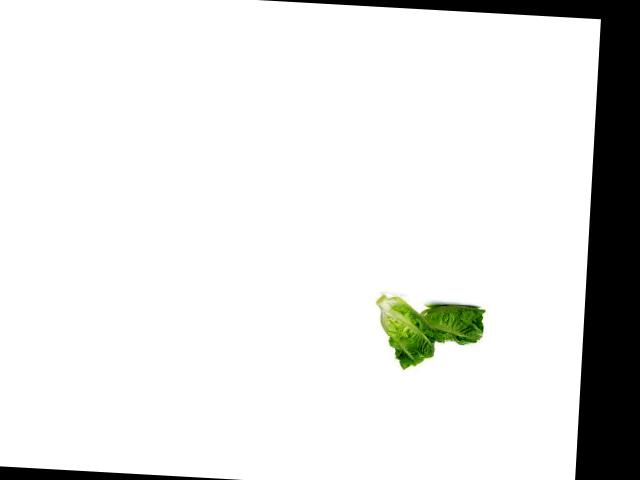lettuce: (371, 289, 445, 368)
